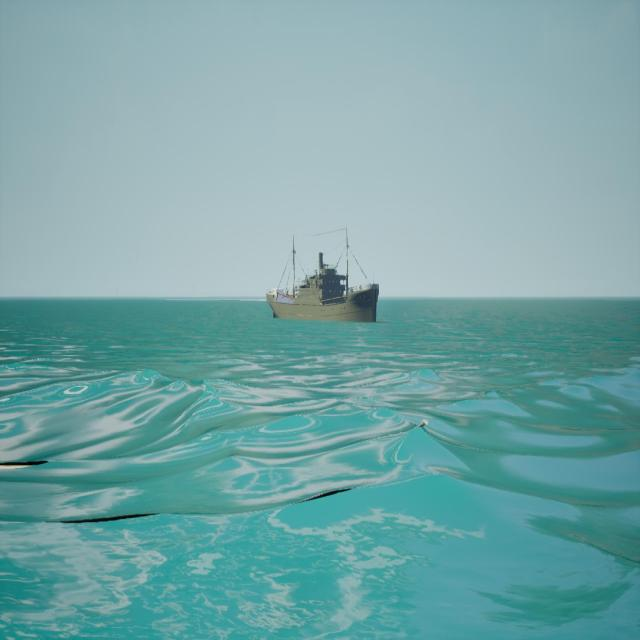fishing ship: (266, 231, 380, 323)
